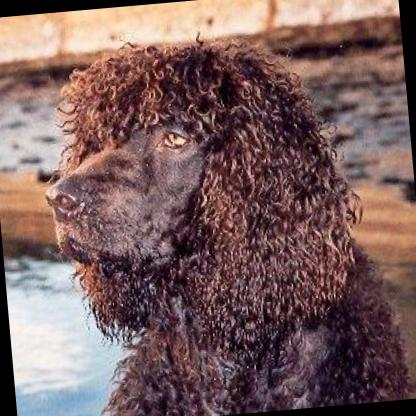Irish_water_spaniel: (30, 20, 414, 416)
